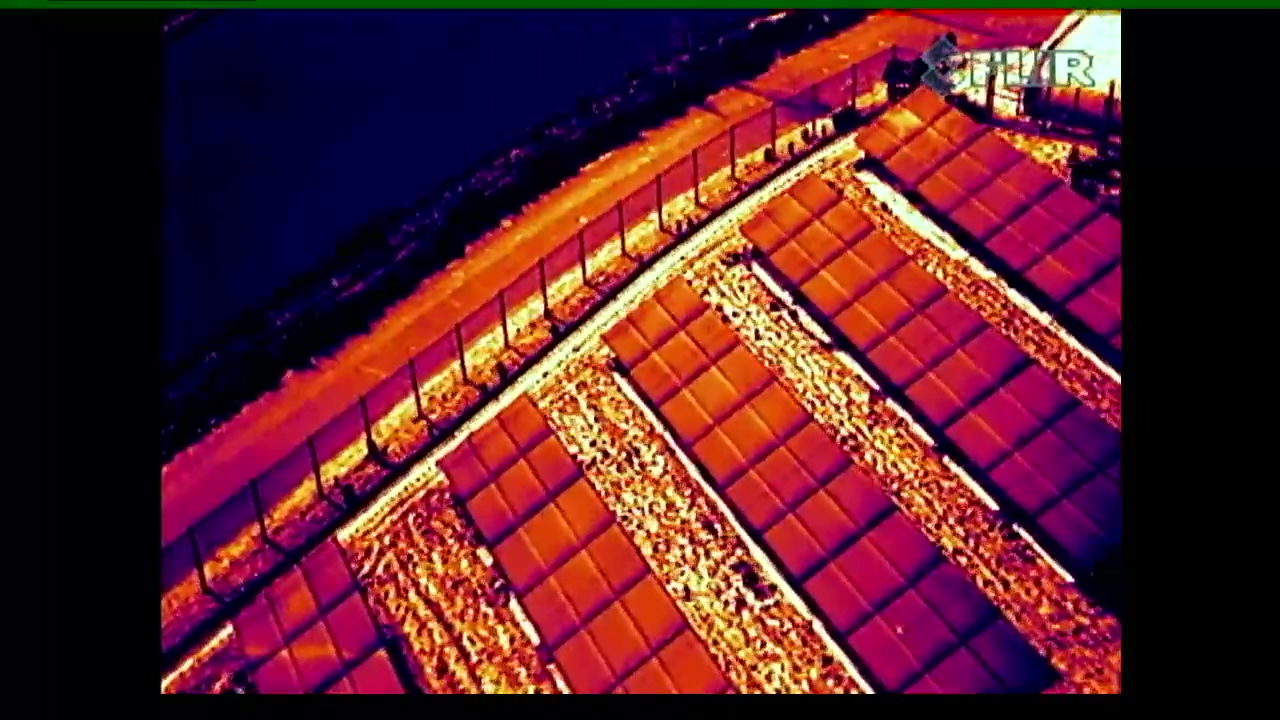hotspot: (823, 559, 1007, 692)
